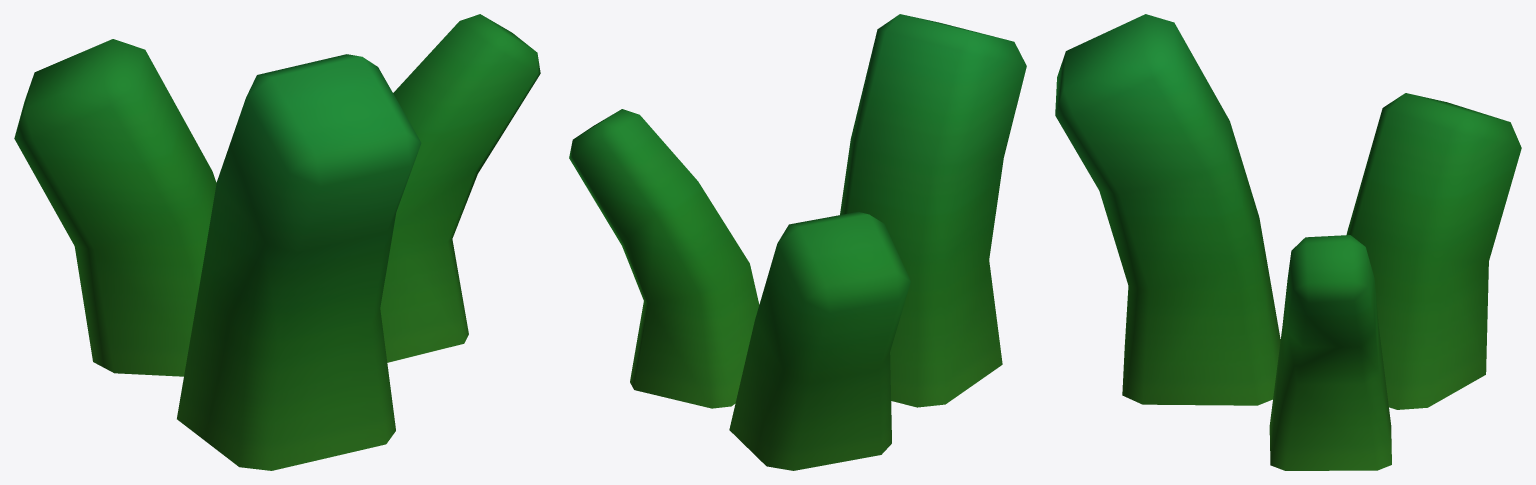
File: Grass_2_3.glb
3 renders of one model, left to right at view 1: azimuth 30°, elevation 25°; view 2: azimuth 150°, elevation 25°; view 3: azimuth 270°, elevation 25°, orthographic. The views are drawn at different scales.
Parts seen in each view (by area): view 1: Grass_2_3; view 2: Grass_2_3; view 3: Grass_2_3.
Part boxes in pixels (x1,y1,x2,y2): Grass_2_3: (14,14,540,470); Grass_2_3: (569,14,1026,470); Grass_2_3: (1055,14,1521,470).
Size of the model in its own units: 0.2267 by 0.1858 by 0.2324.
1 material, 1 textured.
